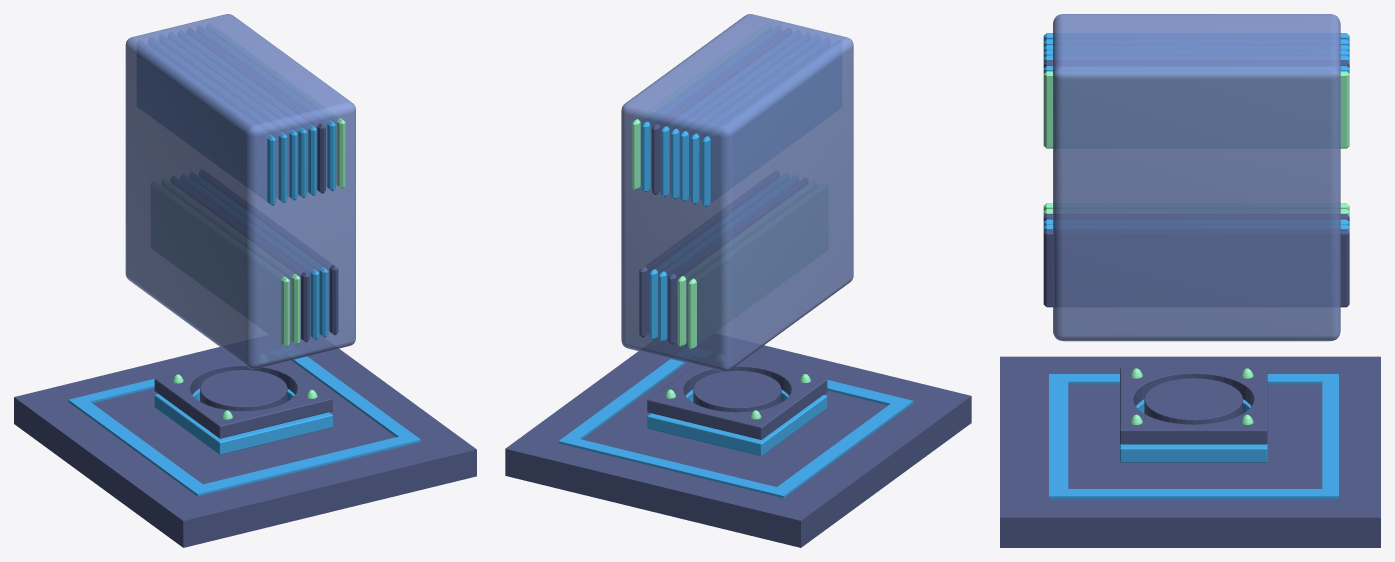
The picture shows the model from 3 angles, left to right: view 1: azimuth 30°, elevation 25°; view 2: azimuth 150°, elevation 25°; view 3: azimuth 270°, elevation 25°; orthographic projection. The views are drawn at different scales.
Visible parts, largest first — view 1: 外机箱, 大底台, 上层, 底部方框, 下层, 立方体.15_12, 立方体.13_12, 立方体.11_12, 立方体.7_12, 立方体.14_12, 立方体.12_12, 立方体.3_12 (+7 smaller); view 2: 外机箱, 大底台, 上层, 底部方框, 下层, 立方体.7_12, 立方体.11_12, 立方体.10_12, 立方体.12_12, 立方体.15_12, 立方体.2_12, 立方体.4_12 (+7 smaller); view 3: 外机箱, 大底台, 上层, 底部方框, 下层, 立方体.15_12, 立方体.1_12.
Boxes of the visible parts, x1,y1,x2,y2 form: 外机箱: (125, 14, 355, 369); 大底台: (14, 347, 476, 547); 上层: (154, 358, 332, 438); 底部方框: (68, 356, 420, 496); 下层: (154, 388, 332, 454); 立方体.15_12: (329, 264, 338, 335); 立方体.13_12: (310, 269, 319, 339); 立方体.11_12: (291, 274, 300, 344); 立方体.7_12: (278, 132, 287, 202); 立方体.14_12: (319, 267, 328, 337); 立方体.12_12: (301, 271, 309, 342); 立方体.3_12: (317, 123, 325, 193); 外机箱: (621, 14, 853, 371); 大底台: (505, 345, 971, 547); 上层: (647, 359, 827, 439); 底部方框: (558, 359, 913, 498); 下层: (647, 389, 827, 456); 立方体.7_12: (690, 133, 699, 204); 立方体.11_12: (677, 276, 686, 346); 立方体.10_12: (688, 278, 696, 349); 立方体.12_12: (668, 273, 676, 344); 立方体.15_12: (639, 266, 647, 337); 立方体.2_12: (642, 121, 650, 192); 立方体.4_12: (661, 126, 669, 197); 外机箱: (1053, 14, 1340, 341); 大底台: (1000, 356, 1380, 547); 上层: (1120, 368, 1267, 444); 底部方框: (1049, 374, 1338, 498); 下层: (1120, 399, 1267, 462); 立方体.15_12: (1043, 229, 1349, 307); 立方体.1_12: (1043, 71, 1349, 148).
Size of the model in its own units: 31.97 by 39.43 by 31.97.
